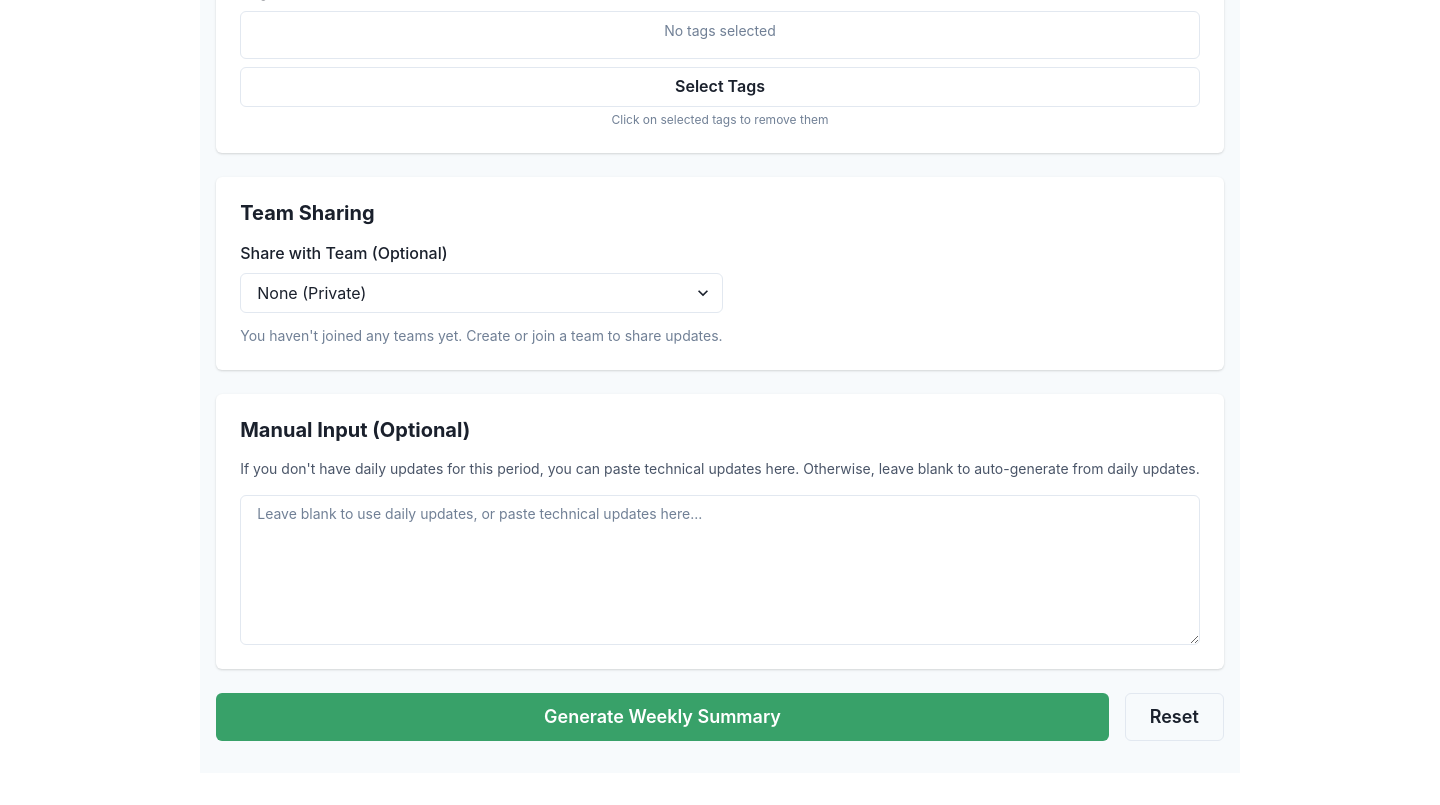
Scenario: CreateWeeklyUpdate page › warns when dates are missing
(page scrolled)
Click the button "Generate Weekly Summary".
click(662, 717)  # box 216,693 -> 1109,741
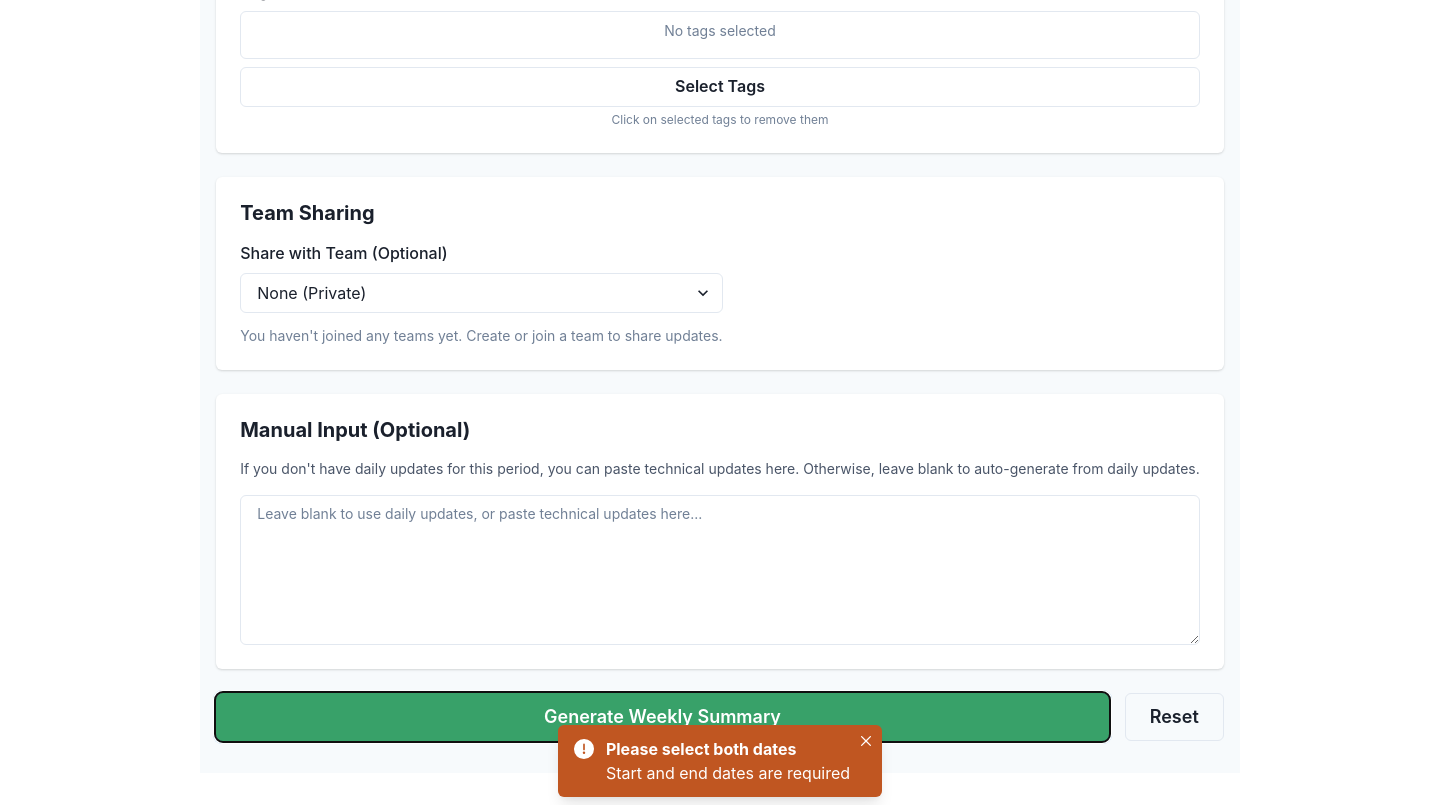
expect the text "Please select both dates" is shown: met, box 606,739 -> 796,759
